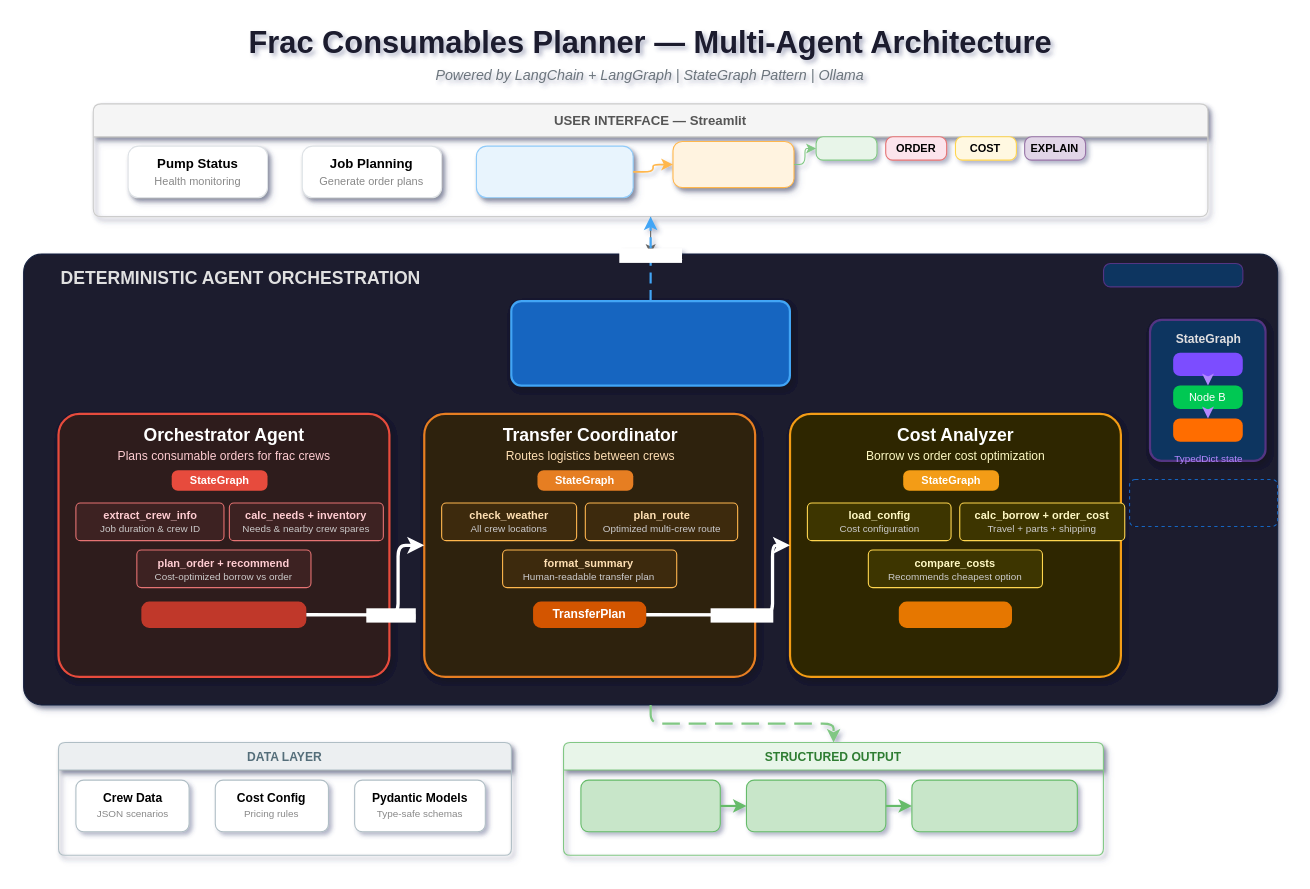
Image size: 1310x889. Some labels were removed from this diagram. Each missing label, with the centre of its shape:
"Chatbot Assistant LLM-powered AI chat" belongs at pixel 555 173.
"CostBreakdown" belongs at pixel 954 614.
"CostBreakdown Savings & recommendation" belongs at pixel 994 805.
"Deterministic pipelines No LLM calls Pure TypedDict state" belongs at pixel 1203 502.
"END" belongs at pixel 1207 429.
"Intent Router LLM structured output" belongs at pixel 734 165.
"LangGraph StateGraph" belongs at pixel 1172 274.
"LLM Backbone Ollama (local) Intent Router + Chatbot only" belongs at pixel 651 344.
"Node A" belongs at pixel 1207 364.
"OrderPlan + CostSummary" belongs at pixel 223 614.
"OrderPlan What to borrow & order" belongs at pixel 650 805.
"STATUS" belongs at pixel 846 148.
"TransferPlan Routes & timing" belongs at pixel 815 805.
